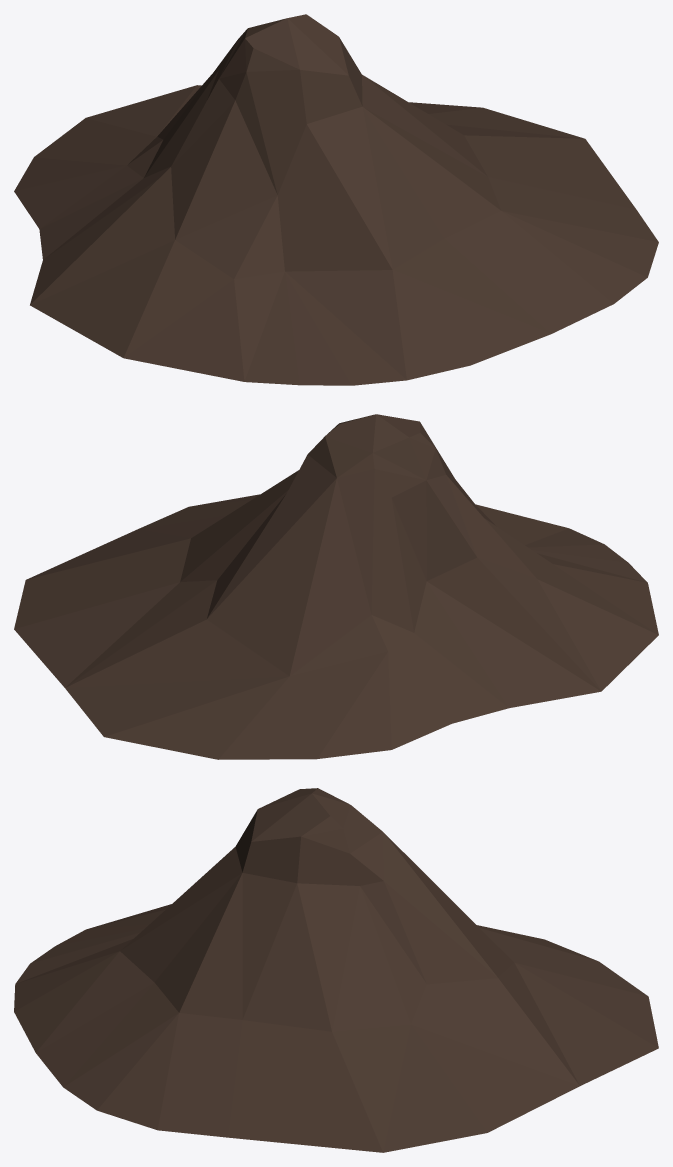
The model's file is synty-terrain-dustpile-small-02.gltf.
3 renders of one model, top to bottom at view 1: azimuth 30°, elevation 25°; view 2: azimuth 150°, elevation 25°; view 3: azimuth 270°, elevation 25°, orthographic. The views are drawn at different scales.
Parts seen in each view (by area): view 1: SM_Terrain_DustPile_Small_02; view 2: SM_Terrain_DustPile_Small_02; view 3: SM_Terrain_DustPile_Small_02.
Boxes of the visible parts, x1,y1,x2,y2 form: SM_Terrain_DustPile_Small_02: [14, 14, 658, 385]; SM_Terrain_DustPile_Small_02: [14, 414, 658, 759]; SM_Terrain_DustPile_Small_02: [14, 788, 658, 1152].
Bounding box in the file's own units: 0.6112 × 0.2305 × 0.6412.
1 material, 1 textured.
